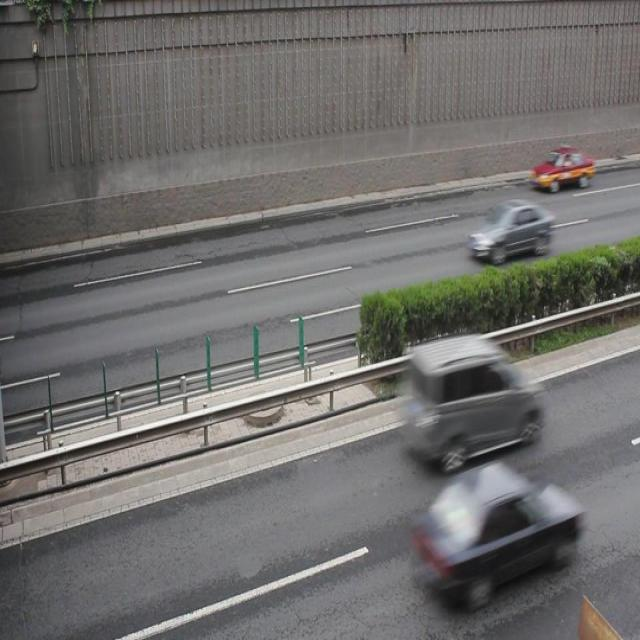car: (408, 457, 580, 608), (403, 332, 543, 467), (464, 198, 552, 263), (529, 147, 594, 193)
